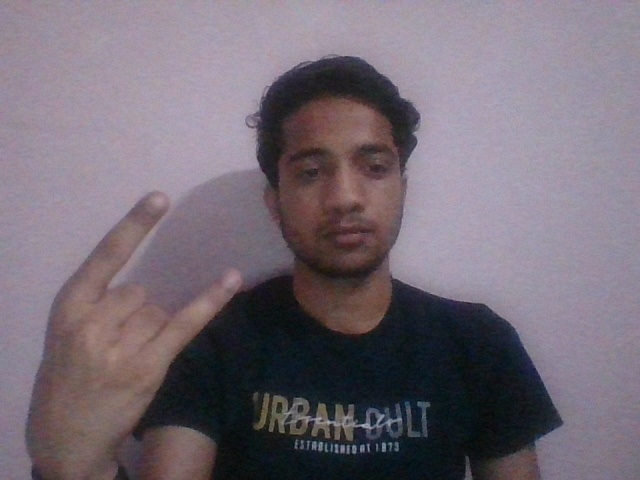iloveyou: (22, 191, 242, 463)
